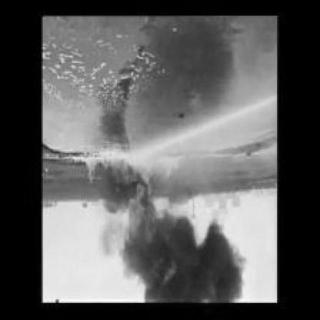Fire: (82, 150, 232, 302)
